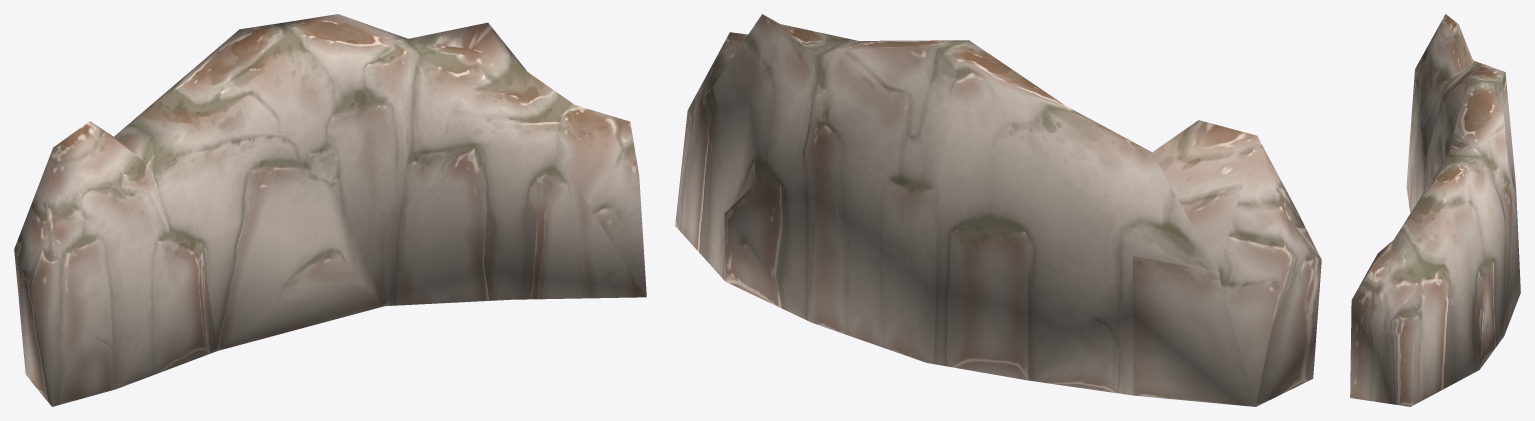
The model's file is Rock Wall 2.fbx.
The picture shows the model from 3 angles, left to right: view 1: azimuth 30°, elevation 25°; view 2: azimuth 150°, elevation 25°; view 3: azimuth 270°, elevation 25°; orthographic projection. The views are drawn at different scales.
Parts seen in each view (by area): view 1: Rock_Wall_2; view 2: Rock_Wall_2; view 3: Rock_Wall_2.
Part boxes in pixels (x1,y1,x2,y2): Rock_Wall_2: (14, 14, 646, 406); Rock_Wall_2: (675, 14, 1321, 406); Rock_Wall_2: (1350, 14, 1520, 406).
Size of the model in its own units: 10011 by 4382 by 3194.
Materials: 1 (1 with a texture image).
